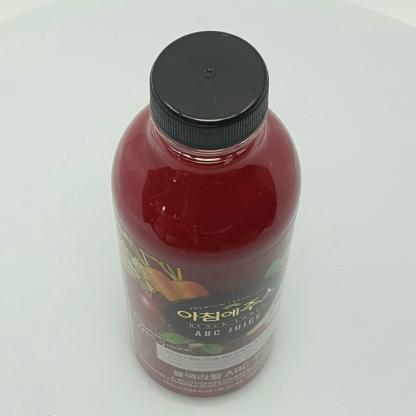--------------ABC--750ML: (111, 31, 301, 397)
